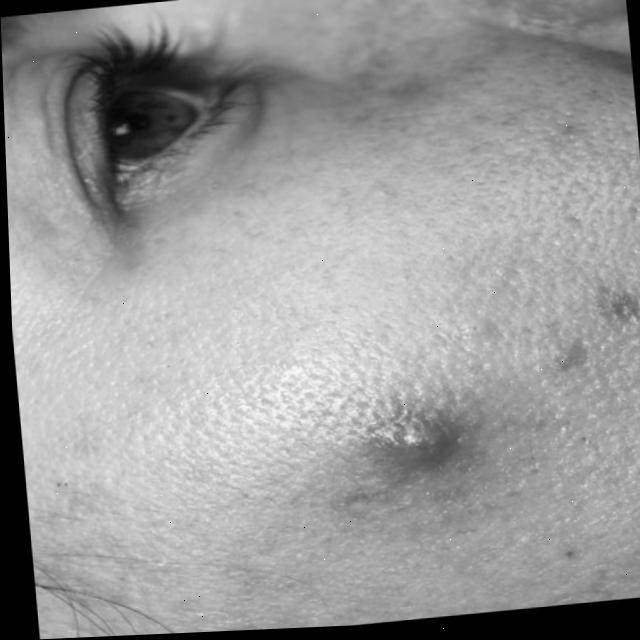Acne: (326, 373, 460, 499)
